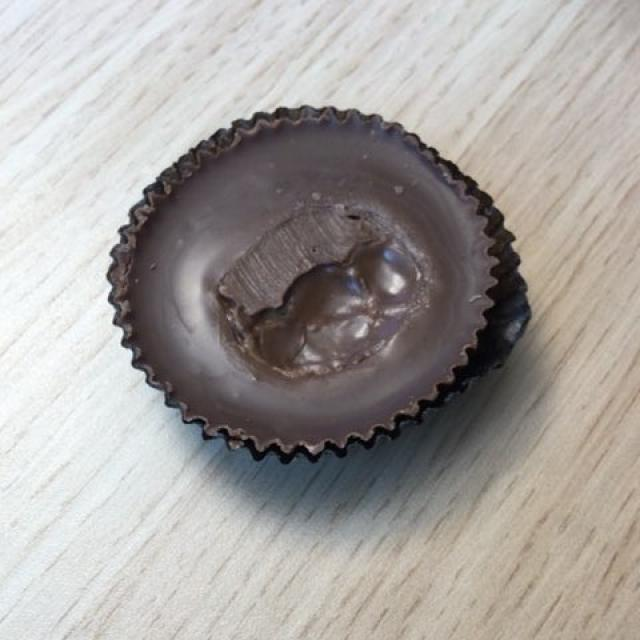chocolate: (117, 119, 505, 449)
